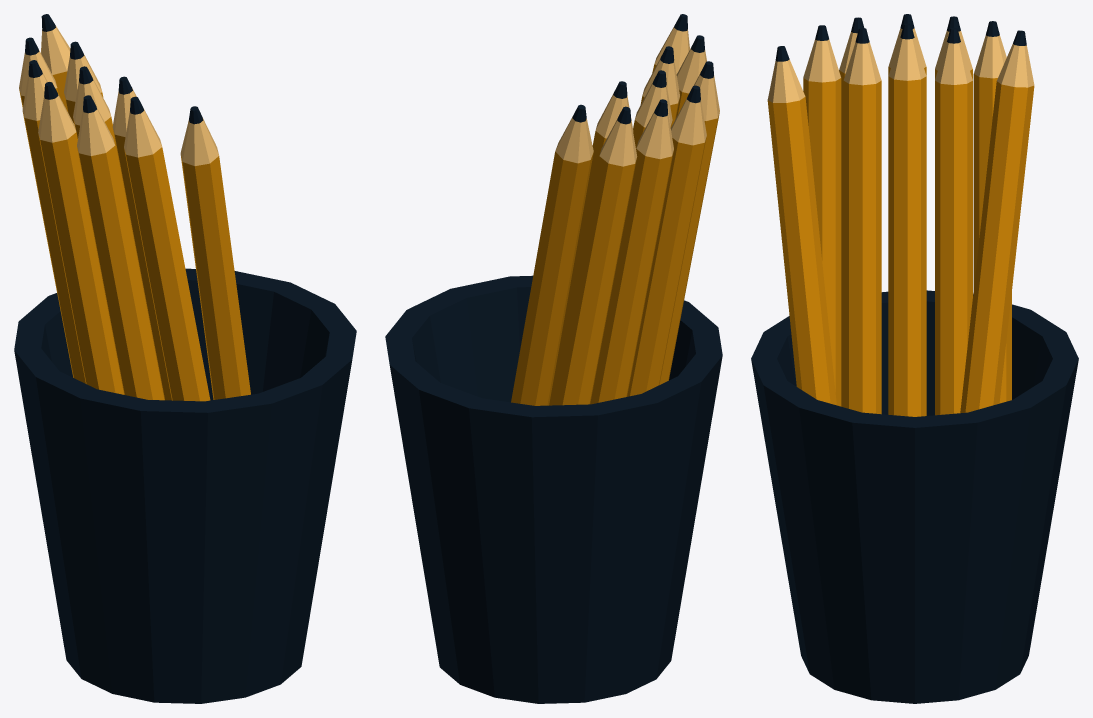
The model's file is pencil cup.fbx.
The picture shows the model from 3 angles, left to right: view 1: azimuth 30°, elevation 25°; view 2: azimuth 150°, elevation 25°; view 3: azimuth 270°, elevation 25°; orthographic projection. The views are drawn at different scales.
Visible parts, largest first — view 1: pencil cup; view 2: pencil cup; view 3: pencil cup.
Boxes of the visible parts, <box> form: pencil cup: <box>14,14,356,703</box>; pencil cup: <box>385,14,722,703</box>; pencil cup: <box>751,14,1078,703</box>.
Size of the model in its own units: 1.6 by 3.15 by 1.6.
